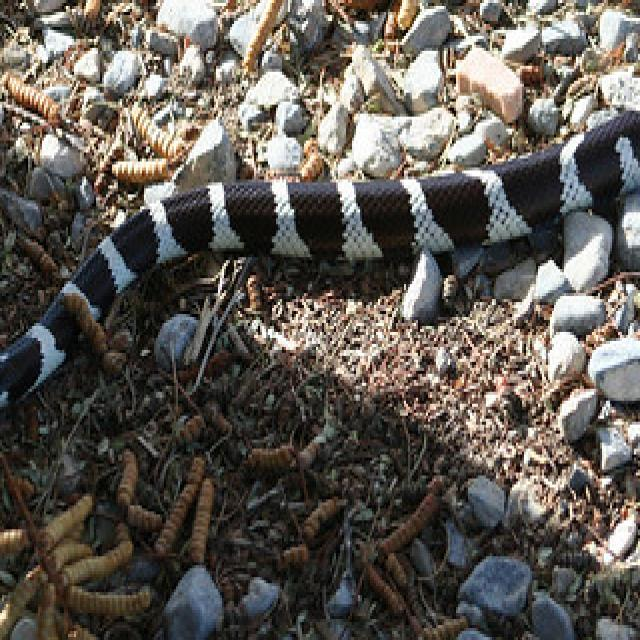snake: (0, 27, 640, 422)
